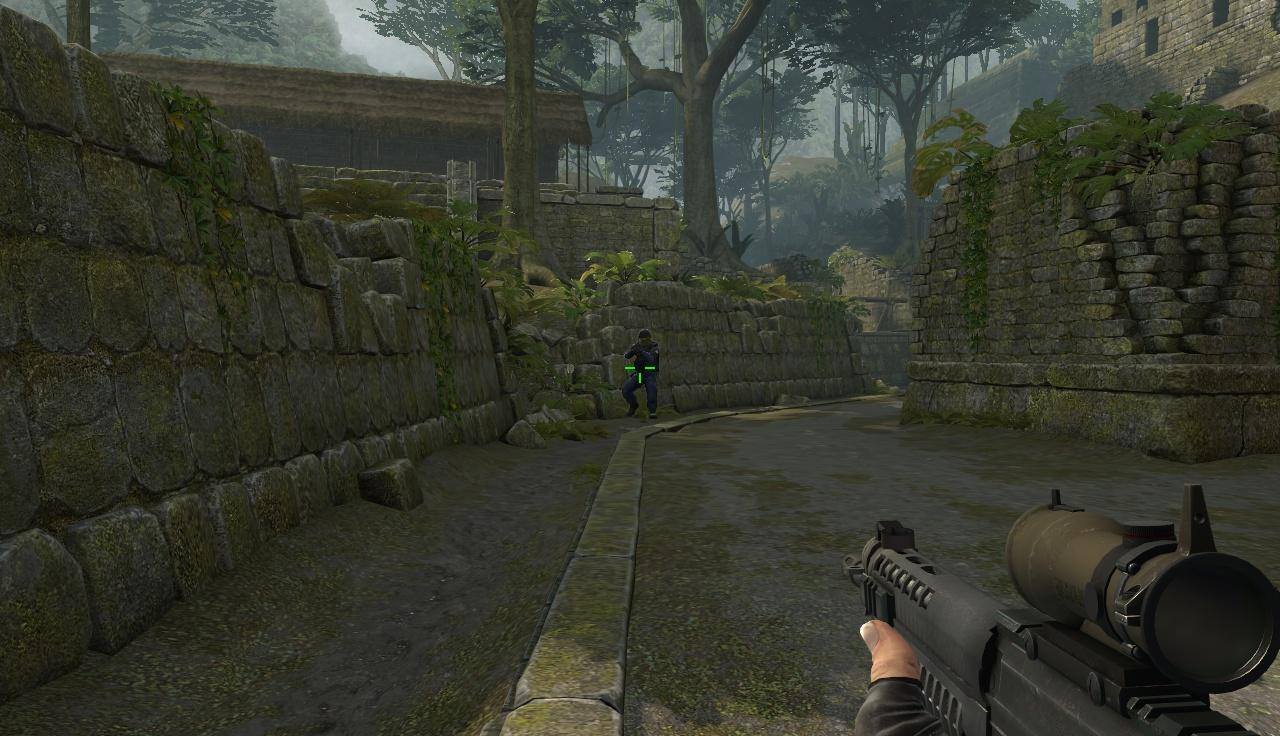ct: (625, 329, 661, 421)
cthead: (638, 329, 653, 347)
rifle: (852, 490, 1280, 736)
